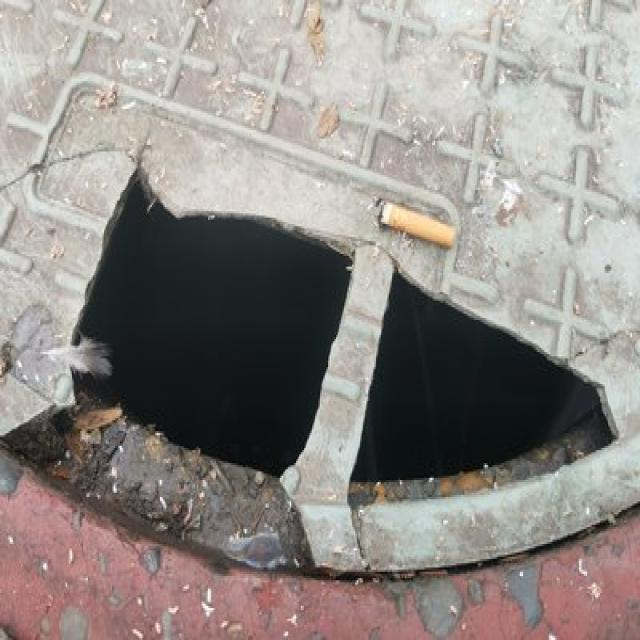manhole: (0, 27, 638, 584)
